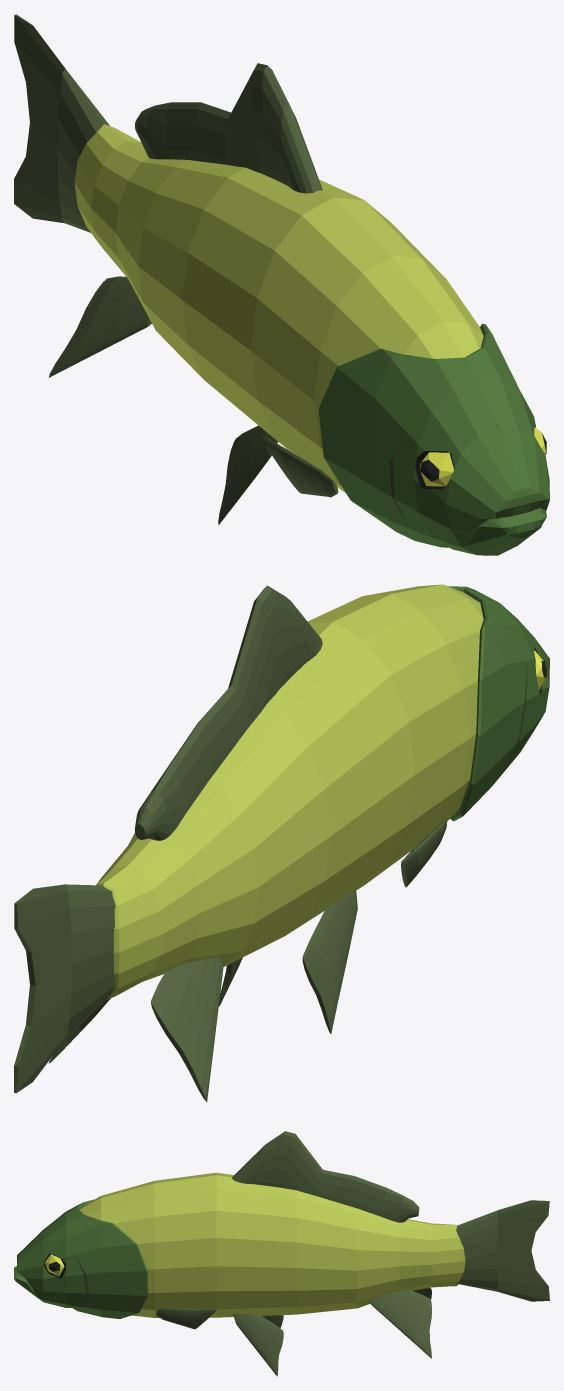
Rendered from fish.glb.
3 views of the same model, one above another, from view 1: azimuth 30°, elevation 25°; view 2: azimuth 150°, elevation 25°; view 3: azimuth 270°, elevation 25° (orthographic). The views are drawn at different scales.
Visible parts, largest first — view 1: Cylinder, Cylinder.001, Cylinder.002; view 2: Cylinder, Cylinder.002, Cylinder.001; view 3: Cylinder, Cylinder.002, Cylinder.001.
Part boxes in pixels (left/top/right/bottom): Cylinder: left=48, top=124, right=549, bottom=555; Cylinder.001: left=135, top=63, right=322, bottom=193; Cylinder.002: left=14, top=14, right=109, bottom=232; Cylinder: left=49, top=584, right=549, bottom=1101; Cylinder.002: left=14, top=884, right=115, bottom=1093; Cylinder.001: left=135, top=585, right=322, bottom=840; Cylinder: left=14, top=1172, right=465, bottom=1376; Cylinder.002: left=456, top=1200, right=549, bottom=1301; Cylinder.001: left=232, top=1131, right=419, bottom=1222.
Bounding box in the file's own units: 1.38 × 3.53 × 7.41.
